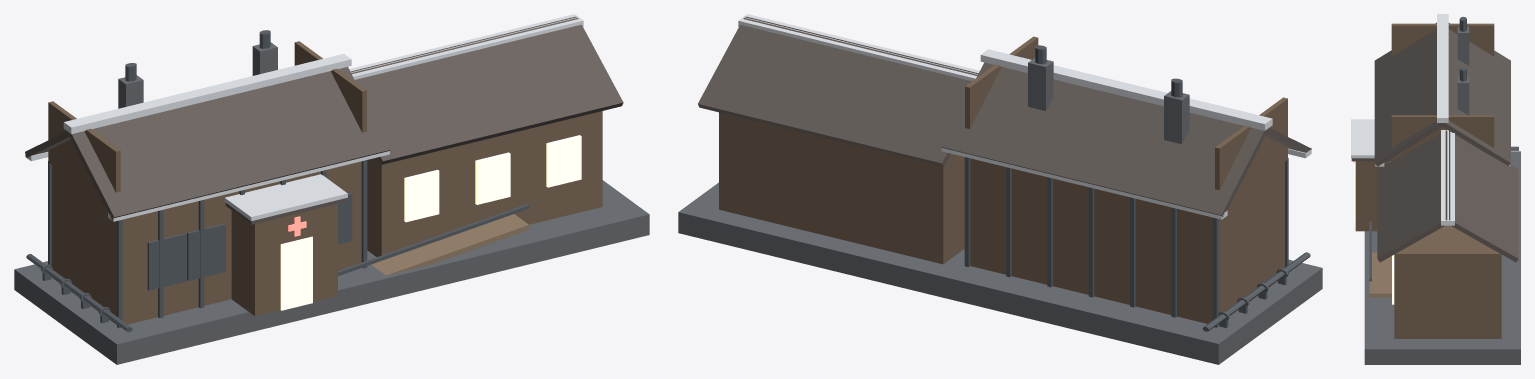
Rendered from care_house.glb.
The picture shows the model from 3 angles, left to right: view 1: azimuth 30°, elevation 25°; view 2: azimuth 150°, elevation 25°; view 3: azimuth 270°, elevation 25°; orthographic projection. The views are drawn at different scales.
Parts seen in each view (by area): view 1: care_house_Building; view 2: care_house_Building; view 3: care_house_Building.
Boxes of the visible parts, x1=… form: care_house_Building: x1=14, y1=14, x2=649, y2=364; care_house_Building: x1=678, y1=14, x2=1322, y2=364; care_house_Building: x1=1351, y1=14, x2=1520, y2=364.
Size of the model in its own units: 13.5 by 5.65 by 4.9.
